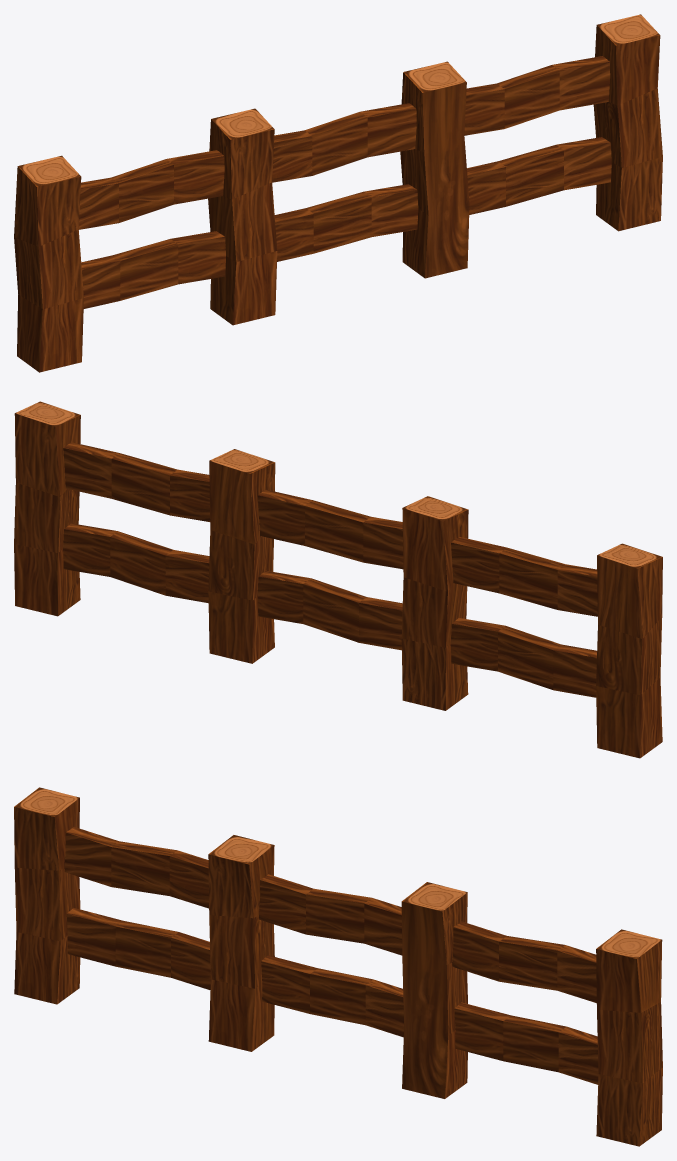
The model's file is fence.obj.
3 views of the same model, one above another, from view 1: azimuth 30°, elevation 25°; view 2: azimuth 150°, elevation 25°; view 3: azimuth 330°, elevation 25° (orthographic).
Visible parts, largest first — view 1: pfosten_main; view 2: pfosten_main; view 3: pfosten_main.
Part boxes in pixels (x1,y1,x2,y2): pfosten_main: [14, 14, 662, 372]; pfosten_main: [14, 401, 662, 758]; pfosten_main: [14, 787, 662, 1146].
Bounding box in the file's own units: 1.9 × 0.5524 × 0.1349.
Materials: 1 (1 with a texture image).
